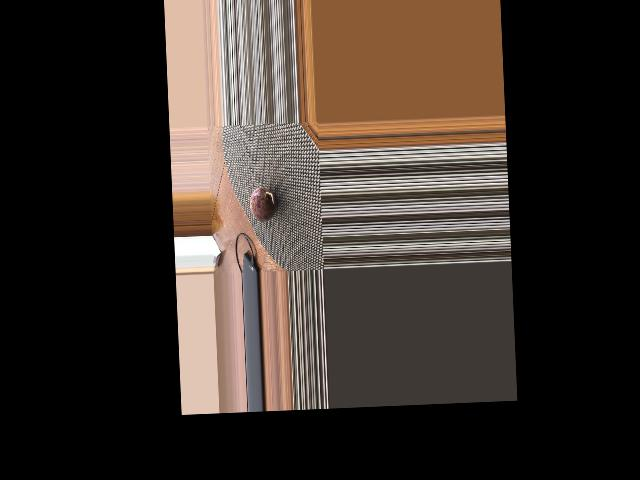beet: (249, 187, 277, 222)
